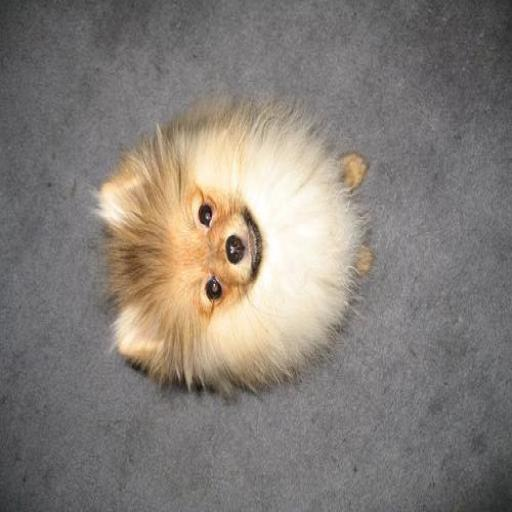dog_face: (88, 143, 264, 369)
